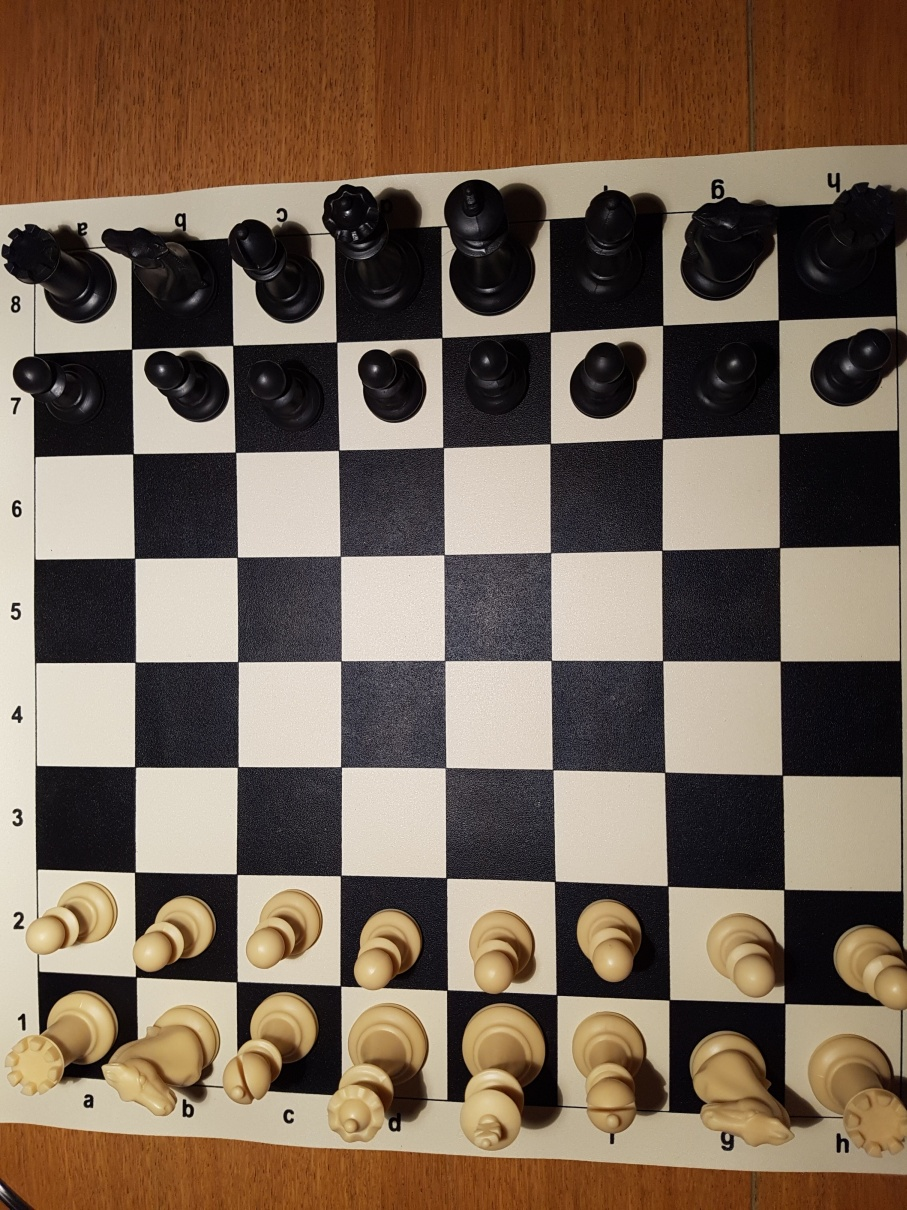chess_bishop: (329, 1002, 433, 1139), (457, 1004, 549, 1155), (222, 989, 316, 1104), (225, 221, 325, 327), (569, 1012, 650, 1137), (569, 190, 643, 306)
chess_king: (443, 180, 538, 321)
chess_knight: (690, 1033, 797, 1149), (679, 198, 802, 298), (102, 225, 226, 321), (109, 1006, 217, 1111)
chess_pawn: (10, 352, 113, 428), (132, 887, 216, 971), (810, 328, 896, 408), (25, 880, 117, 953), (141, 348, 229, 424), (351, 906, 427, 989), (245, 889, 325, 966), (831, 927, 907, 1007), (246, 354, 329, 427), (704, 916, 776, 995), (567, 341, 637, 421), (466, 912, 533, 995), (681, 346, 755, 418), (356, 346, 425, 422), (578, 899, 641, 982), (462, 341, 528, 418)
chess_queen: (322, 182, 417, 316)
chess_rook: (805, 1035, 907, 1149), (802, 182, 907, 292), (2, 221, 113, 323), (4, 995, 99, 1098)
